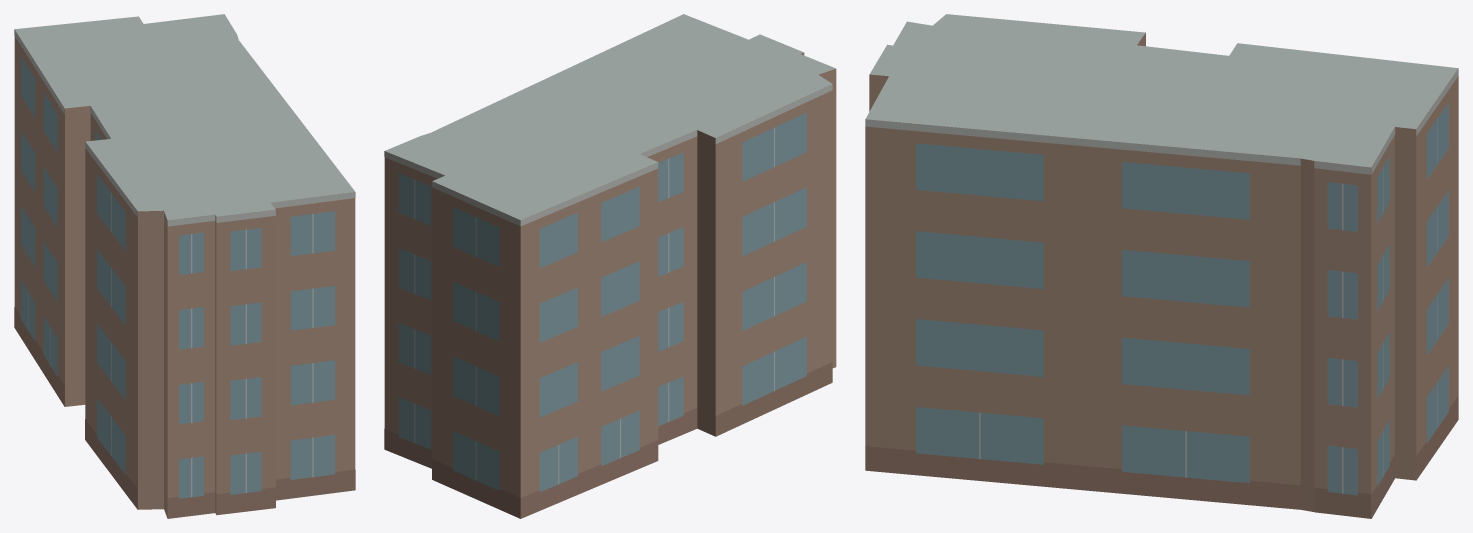
File: survey-upis-32526837.glb
3 views of the same model, side by side, from view 1: azimuth 30°, elevation 25°; view 2: azimuth 150°, elevation 25°; view 3: azimuth 270°, elevation 25° (orthographic). The views are drawn at different scales.
Parts seen in each view (by area): view 1: survey-upis-32526837.tmp; view 2: survey-upis-32526837.tmp; view 3: survey-upis-32526837.tmp.
Boxes of the visible parts, <box> form: survey-upis-32526837.tmp: <box>14,14,355,518</box>; survey-upis-32526837.tmp: <box>384,14,836,518</box>; survey-upis-32526837.tmp: <box>865,14,1458,518</box>.
Size of the model in its own units: 11.02 by 11.75 by 17.99.
